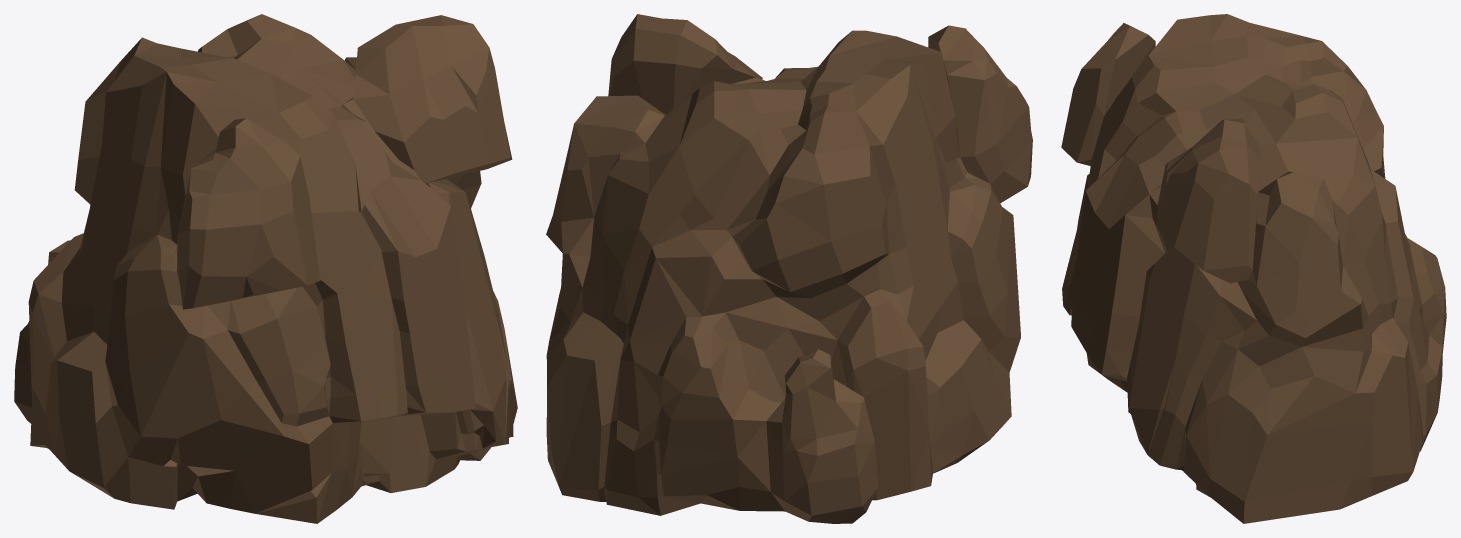
Rendered from shituo9.FBX.
The picture shows the model from 3 angles, left to right: view 1: azimuth 30°, elevation 25°; view 2: azimuth 150°, elevation 25°; view 3: azimuth 270°, elevation 25°; orthographic projection. The views are drawn at different scales.
Parts seen in each view (by area): view 1: c16; view 2: c16; view 3: c16.
Boxes of the visible parts, x1,y1,x2,y2 form: c16: (14, 14, 517, 523); c16: (546, 14, 1032, 523); c16: (1061, 14, 1446, 523).
Bounding box in the file's own units: 2.59 × 2.54 × 2.4.
